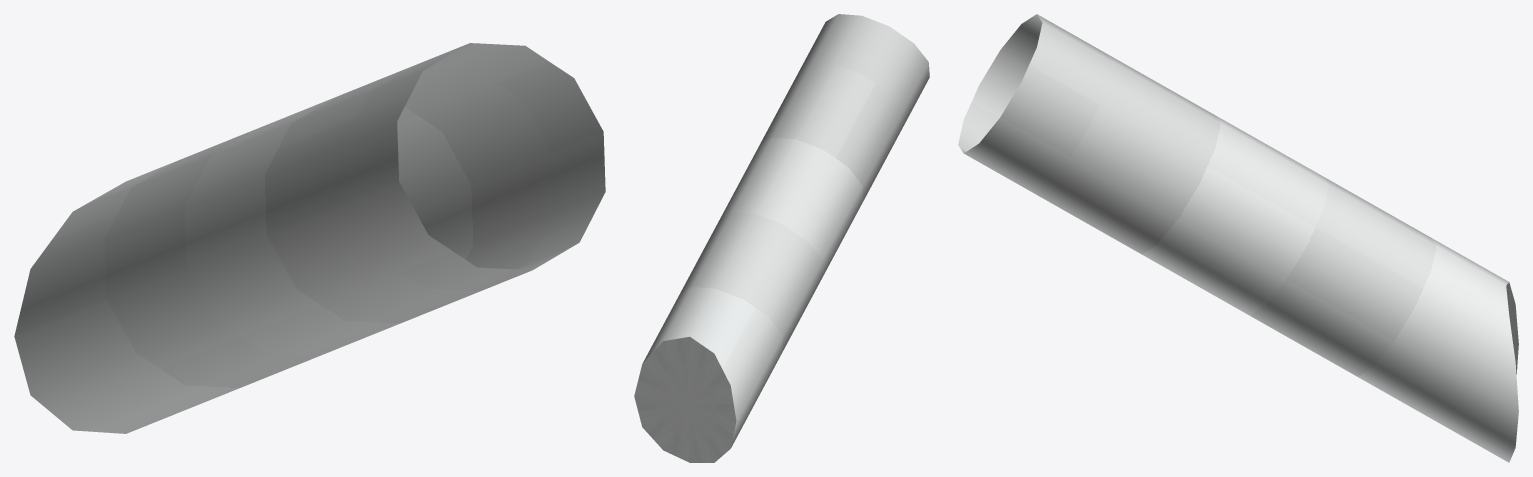
The model's file is luminairearm_truss12ftdouble_c10_thin.obj.
3 renders of one model, left to right at view 1: azimuth 30°, elevation 25°; view 2: azimuth 150°, elevation 25°; view 3: azimuth 270°, elevation 25°, orthographic. The views are drawn at different scales.
Visible parts, largest first — view 1: luminairearm_truss12ftdouble_c10_thin; view 2: luminairearm_truss12ftdouble_c10_thin; view 3: luminairearm_truss12ftdouble_c10_thin.
Part boxes in pixels (x1,y1,x2,y2): luminairearm_truss12ftdouble_c10_thin: (14, 43, 605, 433); luminairearm_truss12ftdouble_c10_thin: (634, 14, 929, 462); luminairearm_truss12ftdouble_c10_thin: (958, 14, 1518, 462).
Bounding box in the file's own units: 0.1562 × 0.4692 × 0.5506.
